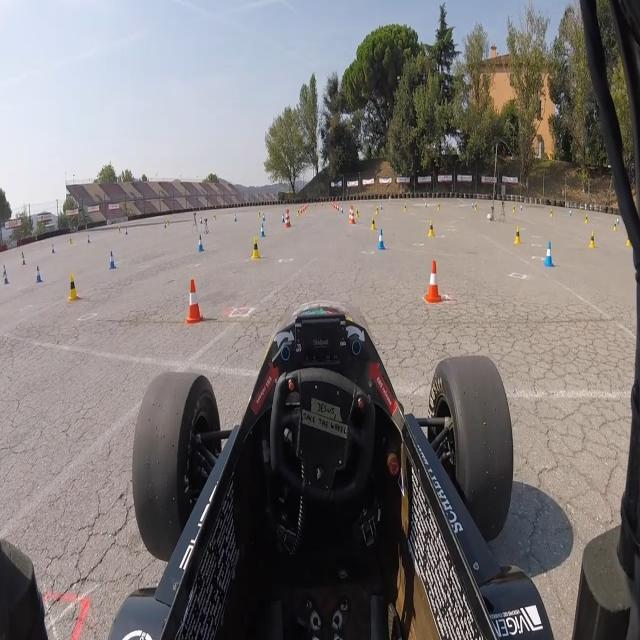blue_cone: (542, 240, 556, 268), (107, 250, 118, 274), (377, 226, 386, 252), (34, 263, 43, 283), (196, 234, 205, 253), (260, 222, 266, 239), (1, 264, 7, 278), (4, 272, 10, 286), (262, 212, 266, 223), (569, 208, 573, 218), (234, 213, 238, 223), (617, 215, 620, 226), (340, 206, 344, 214)
large_orange_cone: (350, 205, 356, 227), (286, 206, 291, 226), (284, 209, 289, 228), (348, 204, 353, 222), (300, 206, 303, 214), (302, 205, 305, 213), (304, 203, 306, 210), (337, 205, 339, 211), (336, 204, 338, 209), (334, 203, 336, 208)
orange_cone: (184, 275, 206, 328), (422, 256, 444, 306)
yellow_cone: (67, 273, 81, 301), (250, 233, 261, 260), (427, 218, 435, 238), (513, 226, 521, 246), (588, 230, 596, 248), (626, 229, 632, 249), (370, 215, 377, 231), (584, 213, 589, 224), (375, 205, 380, 215), (549, 208, 554, 218), (356, 208, 360, 220), (613, 220, 617, 232), (512, 204, 516, 214), (404, 204, 408, 212), (297, 208, 300, 217), (437, 202, 440, 210)
